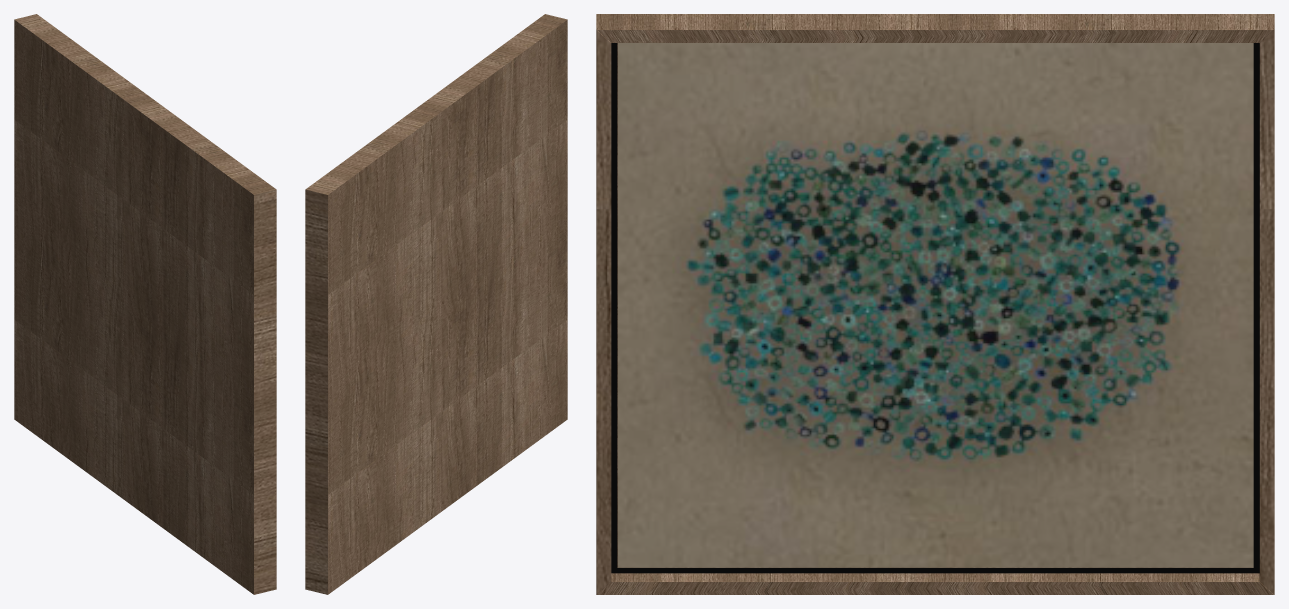
The picture shows the model from 3 angles, left to right: view 1: azimuth 30°, elevation 25°; view 2: azimuth 150°, elevation 25°; view 3: azimuth 270°, elevation 25°; orthographic projection. The views are drawn at different scales.
Parts seen in each view (by area): view 1: QH-壁画4; view 2: QH-壁画4; view 3: QH-壁画4.
Part boxes in pixels (x1,y1,x2,y2): QH-壁画4: (14,14,276,594); QH-壁画4: (305,14,567,594); QH-壁画4: (596,14,1274,594).
Size of the model in its own units: 0.0444 by 0.8109 by 0.7461.
